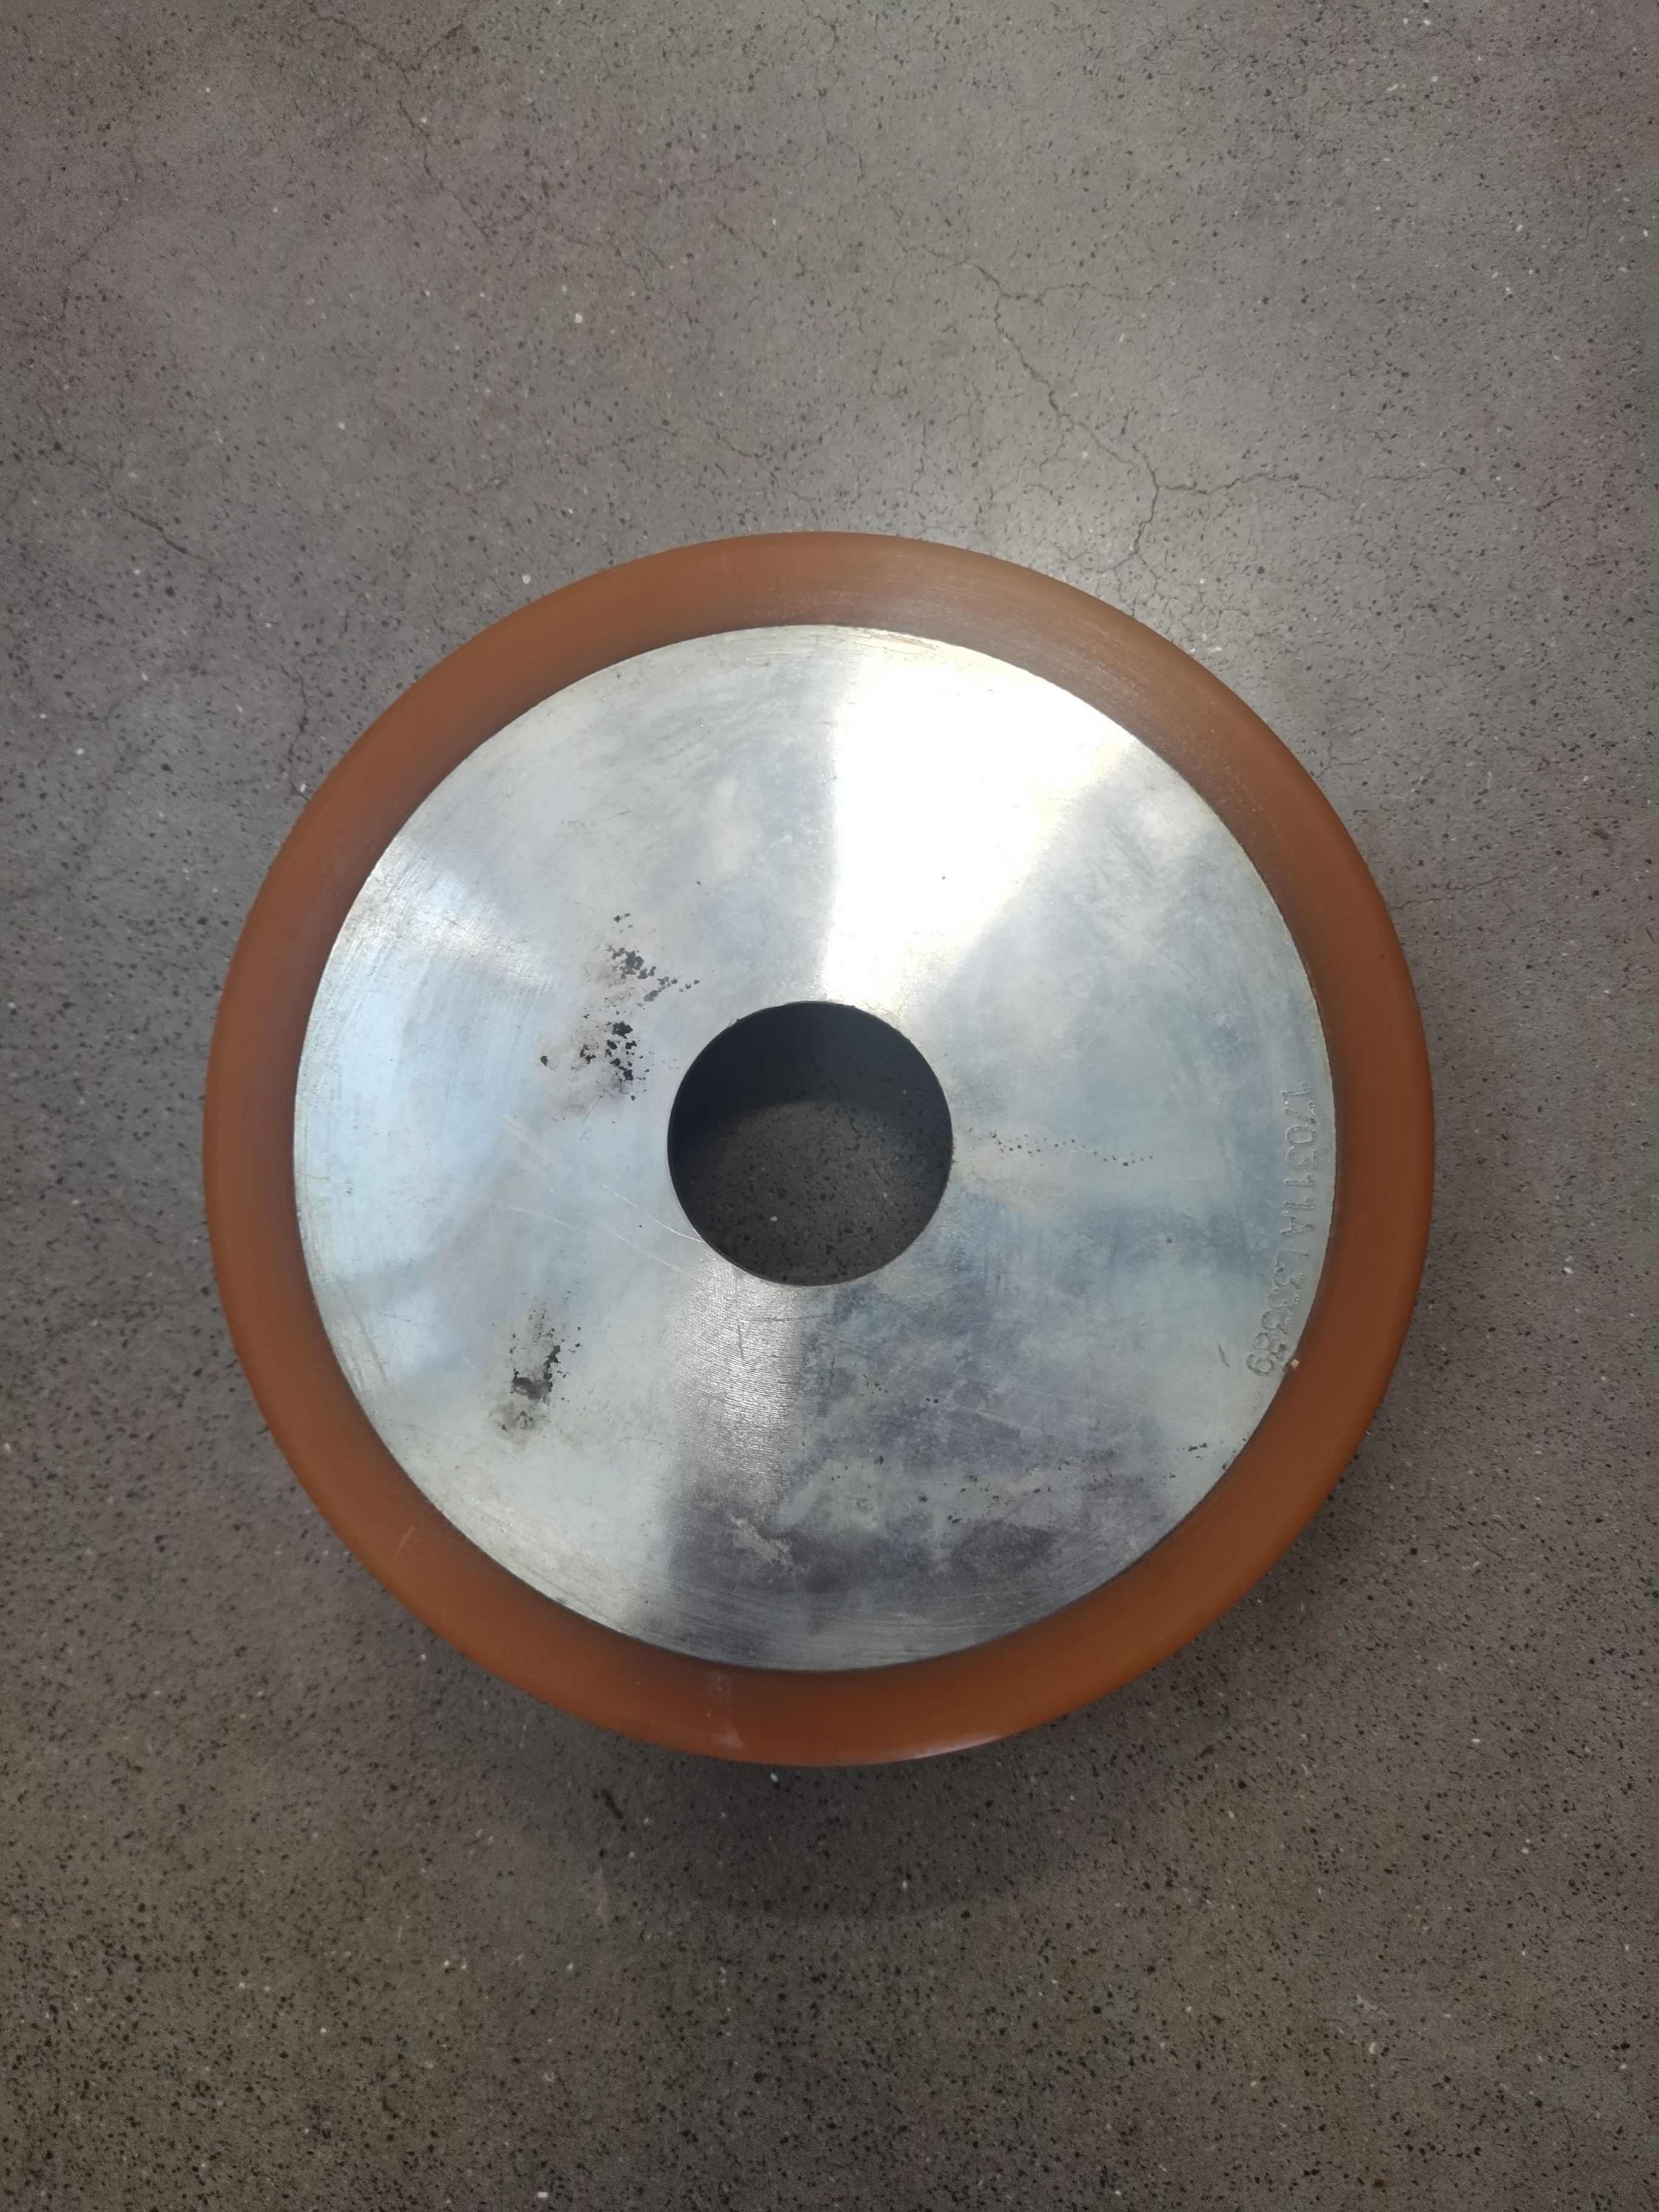good_wheel: (174, 496, 1488, 1836)
